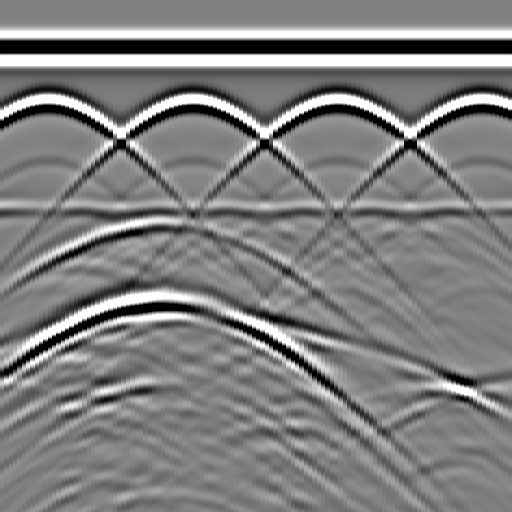grout_surface: (1, 196, 512, 226)
rebar: (26, 83, 66, 123), (170, 83, 210, 123), (315, 83, 355, 123), (459, 83, 499, 123)
rock_surface: (1, 313, 511, 391)
water_void: (128, 199, 188, 239)
